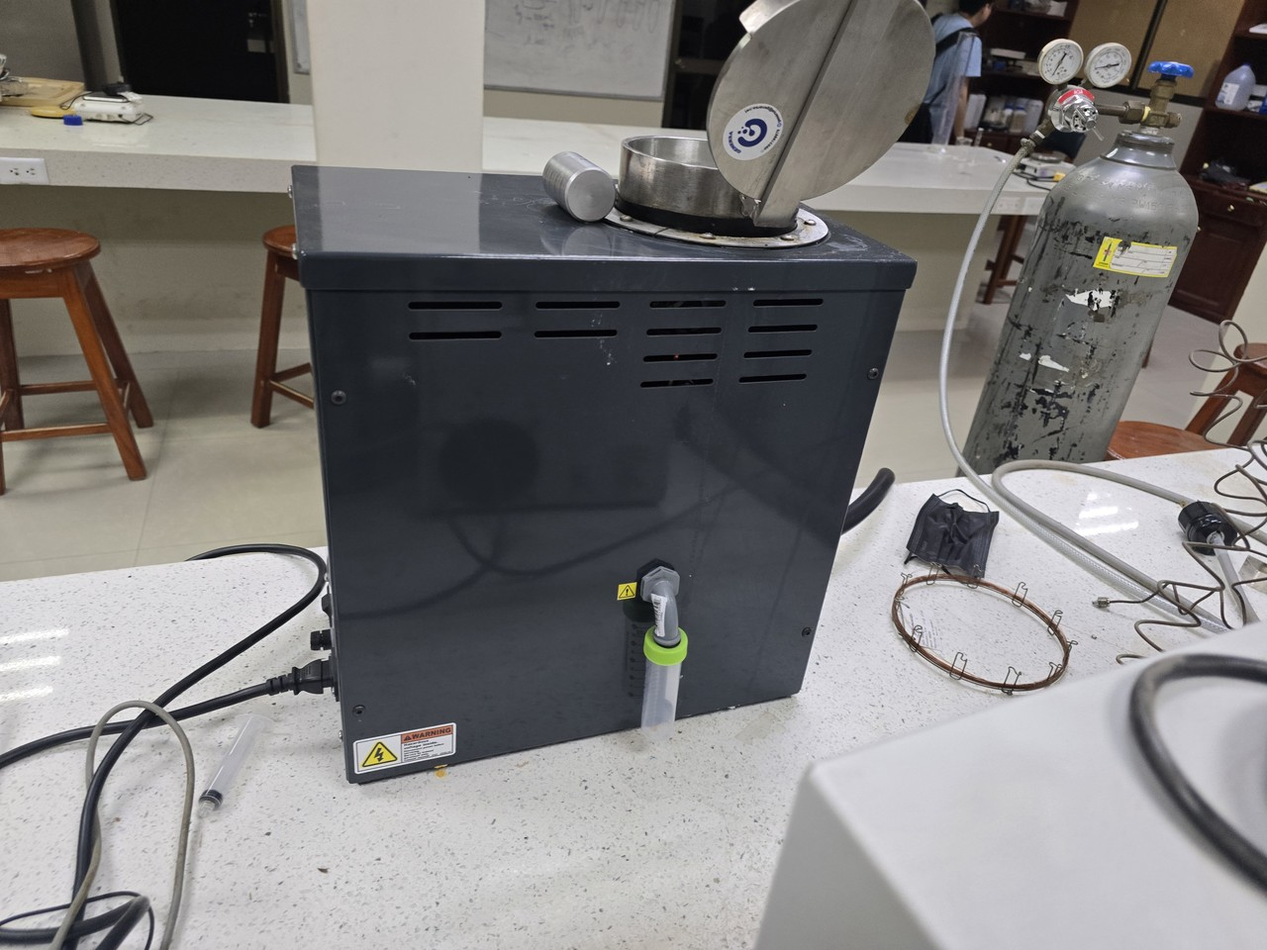ankom_200_fiber_analyzer: (290, 0, 955, 823)
